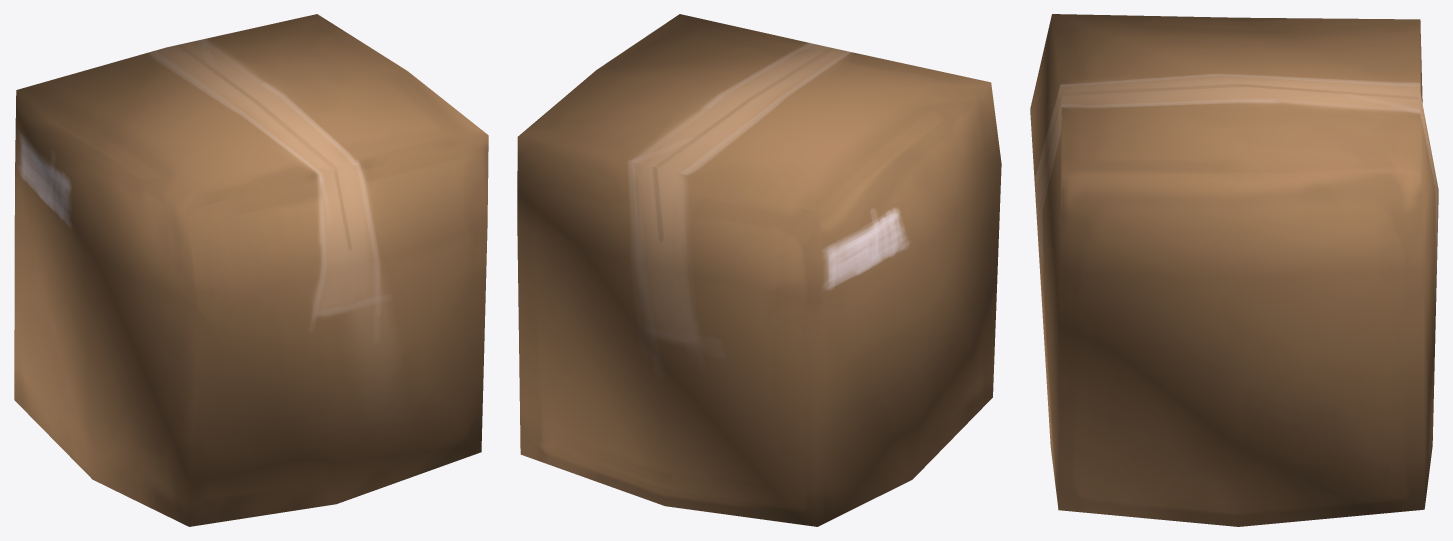
Rendered from small_box1.fbx.
3 views of the same model, side by side, from view 1: azimuth 30°, elevation 25°; view 2: azimuth 150°, elevation 25°; view 3: azimuth 270°, elevation 25° (orthographic). The views are drawn at different scales.
Parts seen in each view (by area): view 1: cardboard_box_1; view 2: cardboard_box_1; view 3: cardboard_box_1.
Boxes of the visible parts, bbox=[...] form: cardboard_box_1: bbox=[14, 14, 488, 526]; cardboard_box_1: bbox=[517, 14, 1001, 526]; cardboard_box_1: bbox=[1030, 14, 1438, 526].
Bounding box in the file's own units: 72.24 × 76.61 × 70.12.
1 material, 1 textured.
